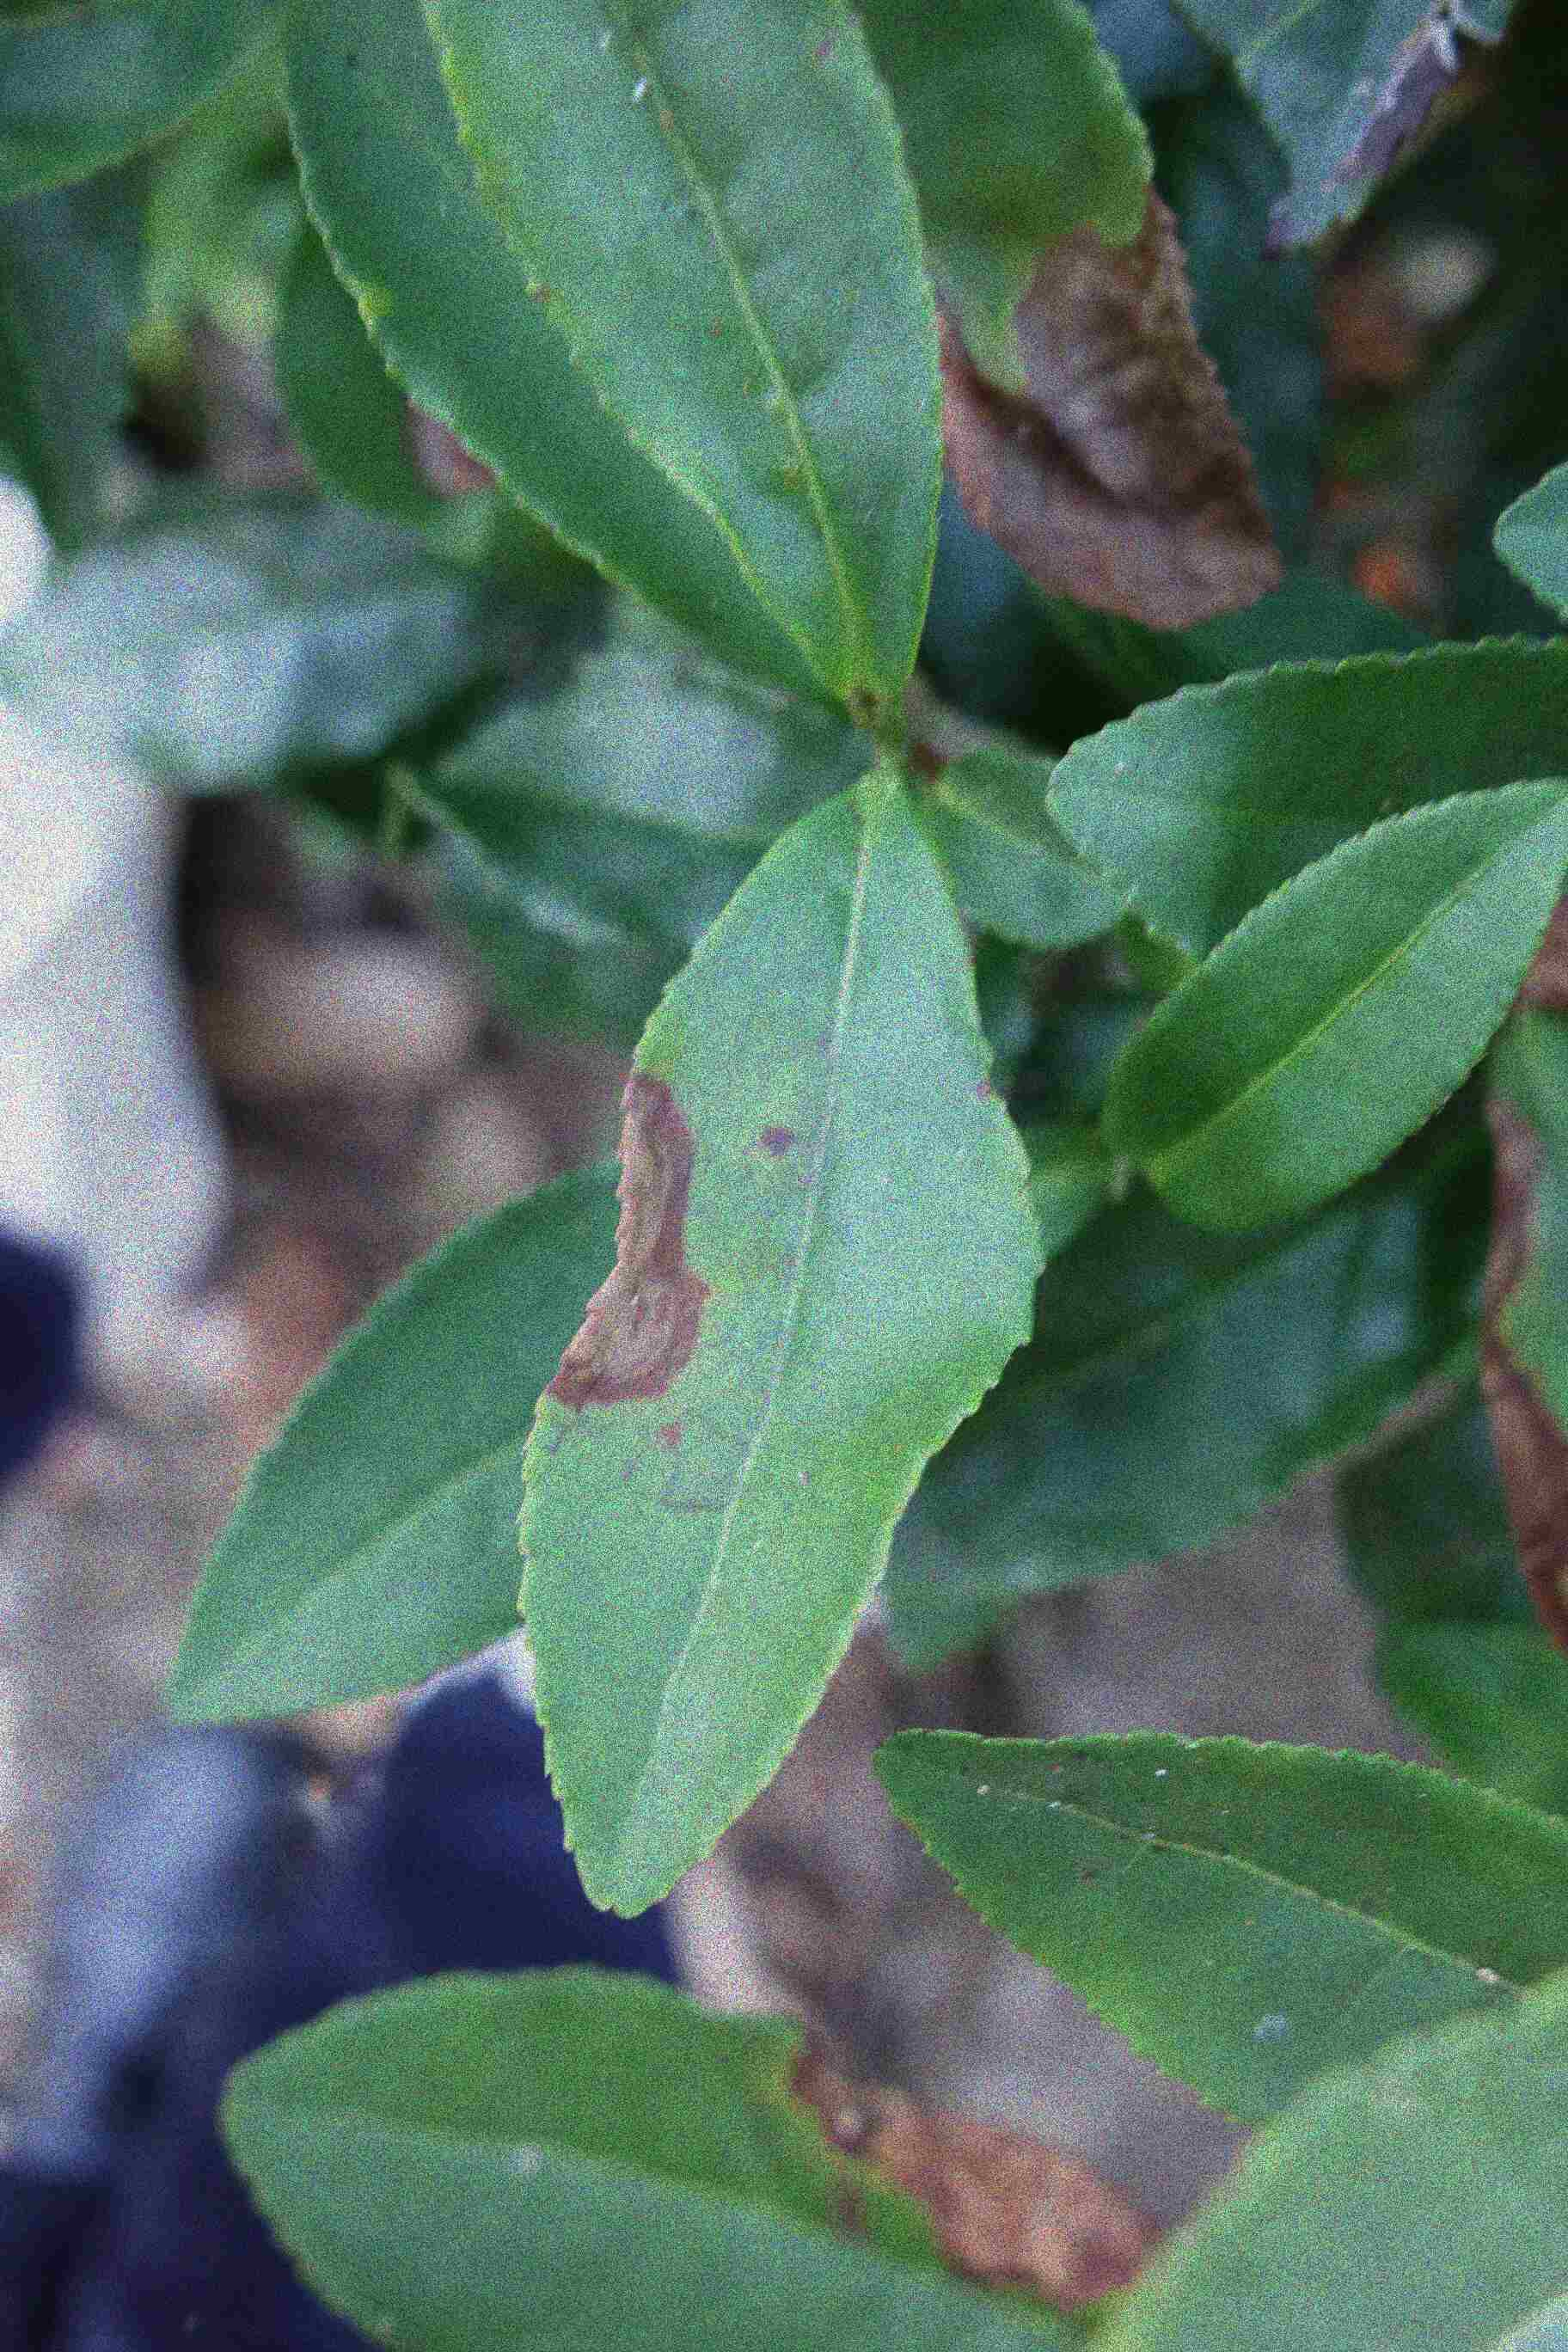healthy: (402, 2, 943, 705), (1101, 779, 1568, 1241)
tanju_high: (518, 745, 1052, 1920), (217, 1963, 1157, 2345)
